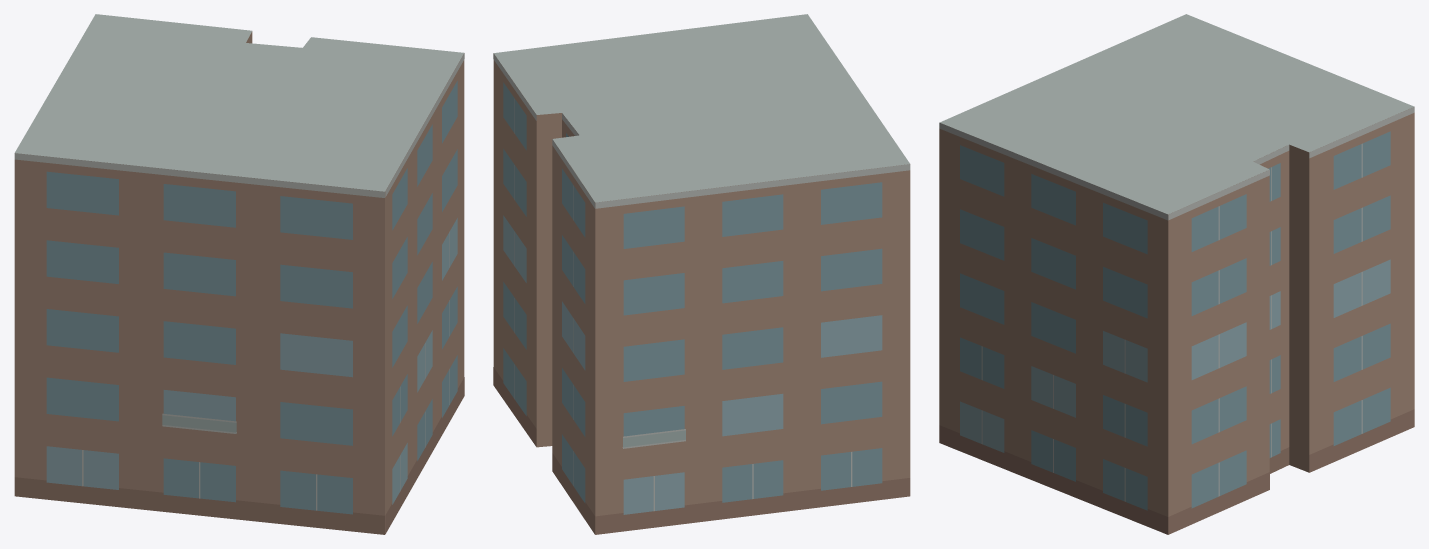
Rendered from survey-upis-32890840.glb.
3 views of the same model, side by side, from view 1: azimuth 30°, elevation 25°; view 2: azimuth 150°, elevation 25°; view 3: azimuth 270°, elevation 25° (orthographic). The views are drawn at different scales.
Parts seen in each view (by area): view 1: survey-upis-32890840.tmp; view 2: survey-upis-32890840.tmp; view 3: survey-upis-32890840.tmp.
Part boxes in pixels (bbox=[...]): survey-upis-32890840.tmp: bbox=[14, 14, 464, 534]; survey-upis-32890840.tmp: bbox=[493, 14, 910, 534]; survey-upis-32890840.tmp: bbox=[939, 14, 1414, 534].
Bounding box in the file's own units: 17.46 × 13 × 17.48.
